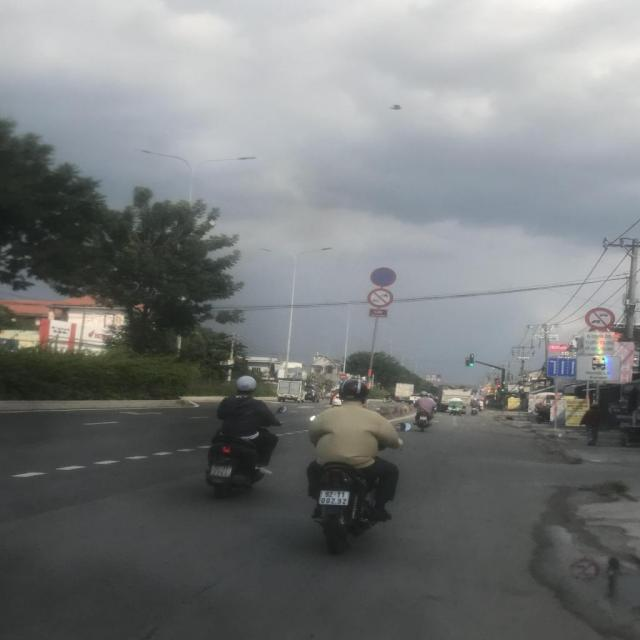cam_cac_loai_xe_3_banh: (484, 386, 488, 390)
cam_dung_xe_va_do_xe: (370, 268, 397, 287), (437, 374, 441, 378)
cam_o_to_tai_va_xe_khach: (584, 308, 616, 330), (478, 385, 482, 389)
cam_xe_2_banh_va_xe_3_banh_co_dong_co: (367, 287, 393, 308), (437, 378, 441, 382)
huong_di_tren_moi_lan_duong_theo_vach_ke_duong: (547, 358, 576, 378)
khac: (576, 356, 620, 381), (584, 332, 614, 354), (426, 378, 431, 380), (426, 379, 431, 381), (432, 378, 436, 380), (432, 380, 436, 382)
object: (339, 374, 346, 379), (338, 380, 345, 385)
toc_do_toi_da_60: (432, 375, 436, 378)
toc_do_toi_da_80: (427, 374, 431, 378)
